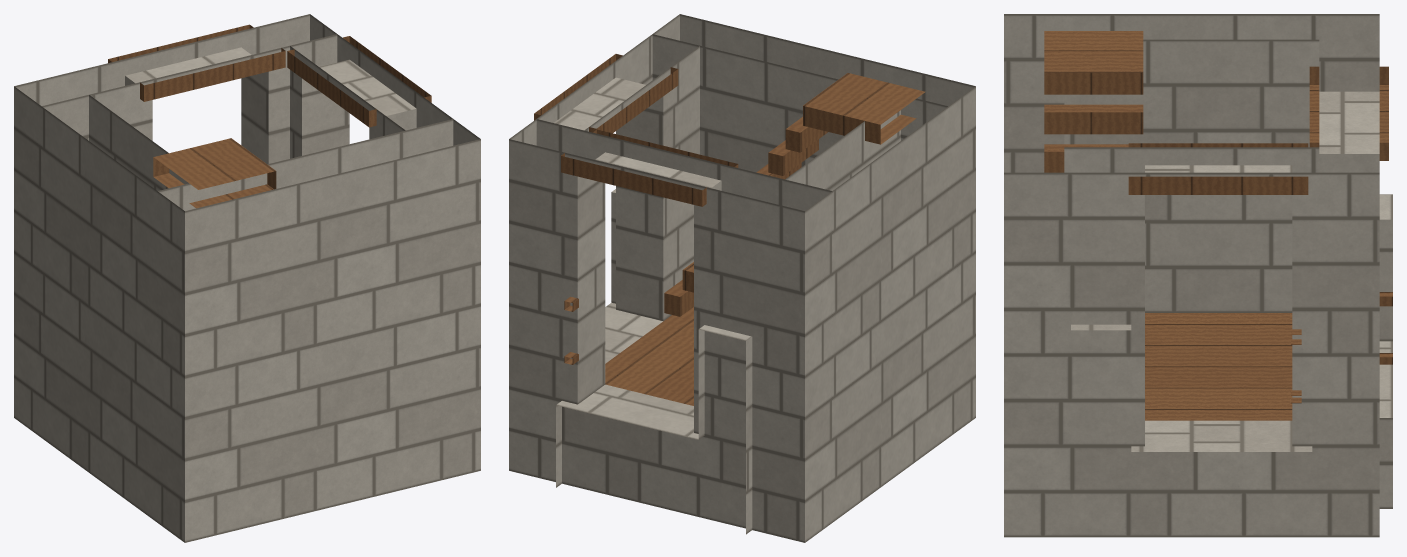
Rendered from Tower_Door_Convex.fbx.
3 views of the same model, side by side, from view 1: azimuth 30°, elevation 25°; view 2: azimuth 150°, elevation 25°; view 3: azimuth 270°, elevation 25° (orthographic). The views are drawn at different scales.
Visible parts, largest first — view 1: Tower_Door_Convex; view 2: Tower_Door_Convex; view 3: Tower_Door_Convex.
Boxes of the visible parts, x1,y1,x2,y2 form: Tower_Door_Convex: (14,14,480,542); Tower_Door_Convex: (509,14,975,542); Tower_Door_Convex: (1004,14,1392,537).
Bounding box in the file's own units: 2.9 × 3 × 2.9.
2 materials, 2 textured.
